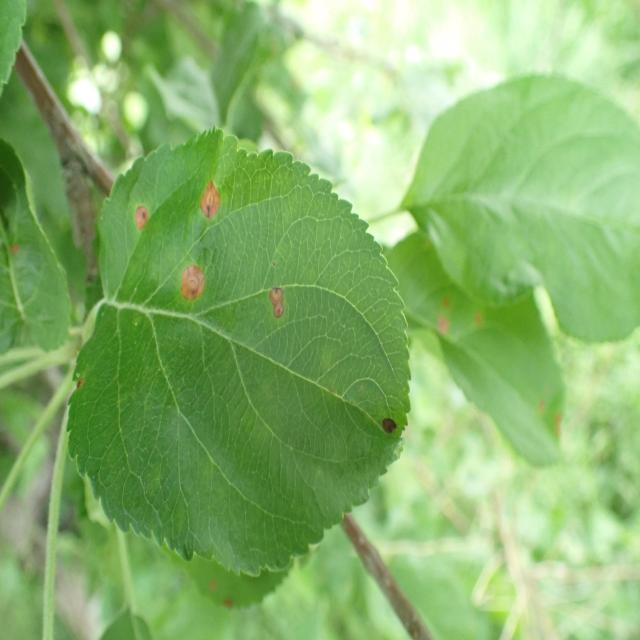Black Rot: (171, 262, 217, 333), (194, 170, 228, 240), (258, 281, 292, 351), (126, 188, 154, 250)
